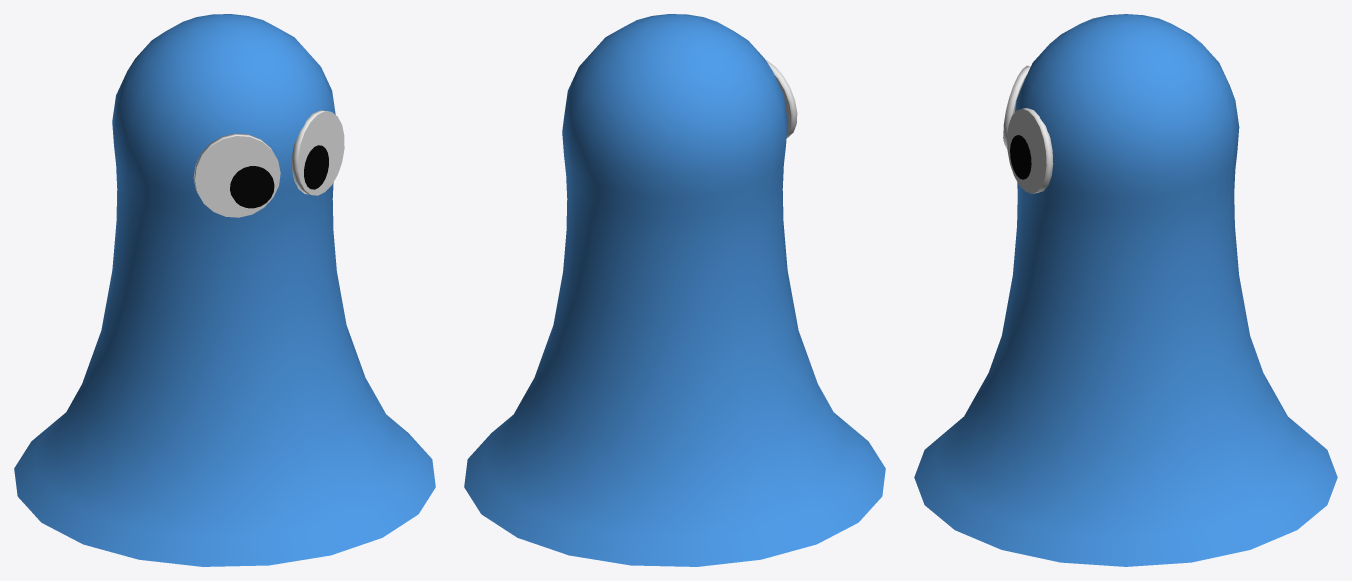
File: CuteGhost.fbx
3 views of the same model, side by side, from view 1: azimuth 30°, elevation 25°; view 2: azimuth 150°, elevation 25°; view 3: azimuth 270°, elevation 25° (orthographic).
Parts seen in each view (by area): view 1: Sphere, Cylinder.001, Cylinder, Cylinder.003, Cylinder.002; view 2: Sphere, Cylinder.001; view 3: Sphere, Cylinder, Cylinder.002, Cylinder.001.
Boxes of the visible parts, <box> form: Sphere: <box>14,14,435,566</box>; Cylinder.001: <box>193,133,280,217</box>; Cylinder: <box>292,110,344,195</box>; Cylinder.003: <box>230,166,274,208</box>; Cylinder.002: <box>304,145,328,189</box>; Sphere: <box>464,14,885,566</box>; Cylinder.001: <box>766,60,797,137</box>; Sphere: <box>914,14,1337,566</box>; Cylinder: <box>1007,108,1053,193</box>; Cylinder.002: <box>1010,135,1031,179</box>; Cylinder.001: <box>1003,65,1030,148</box>.
Bounding box in the file's own units: 365 × 432 × 365.
